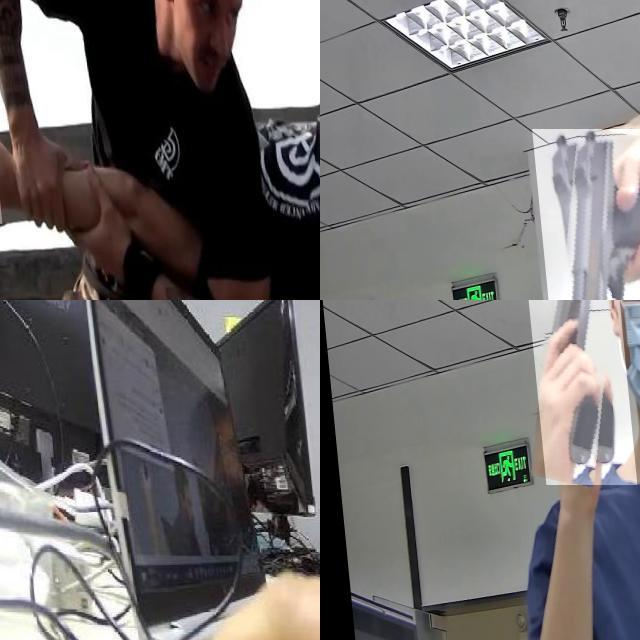-: (0, 124, 63, 224)
gun-knife-thesis - v11 Yolov5 augmented: (514, 300, 629, 485), (527, 128, 640, 300)
